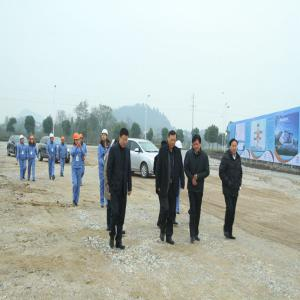none: (168, 130, 178, 150), (120, 128, 129, 149), (193, 135, 203, 153), (230, 138, 238, 156)
white: (102, 130, 109, 143), (50, 133, 55, 143), (21, 135, 26, 144)
yellow: (74, 134, 80, 148), (79, 135, 84, 144), (31, 136, 36, 145), (62, 137, 66, 145)
